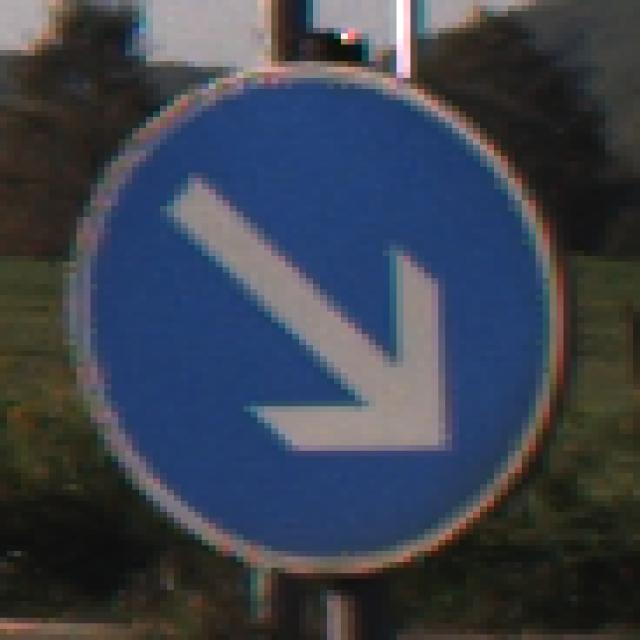compulsary keep right: (70, 68, 558, 580)
